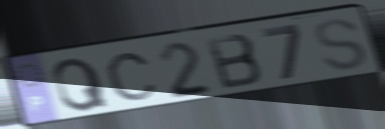2: (158, 40, 214, 101)
7: (258, 21, 306, 83)
B: (203, 32, 266, 93)
C: (104, 51, 161, 103)
Q: (50, 55, 112, 114)
S: (311, 16, 371, 73)
